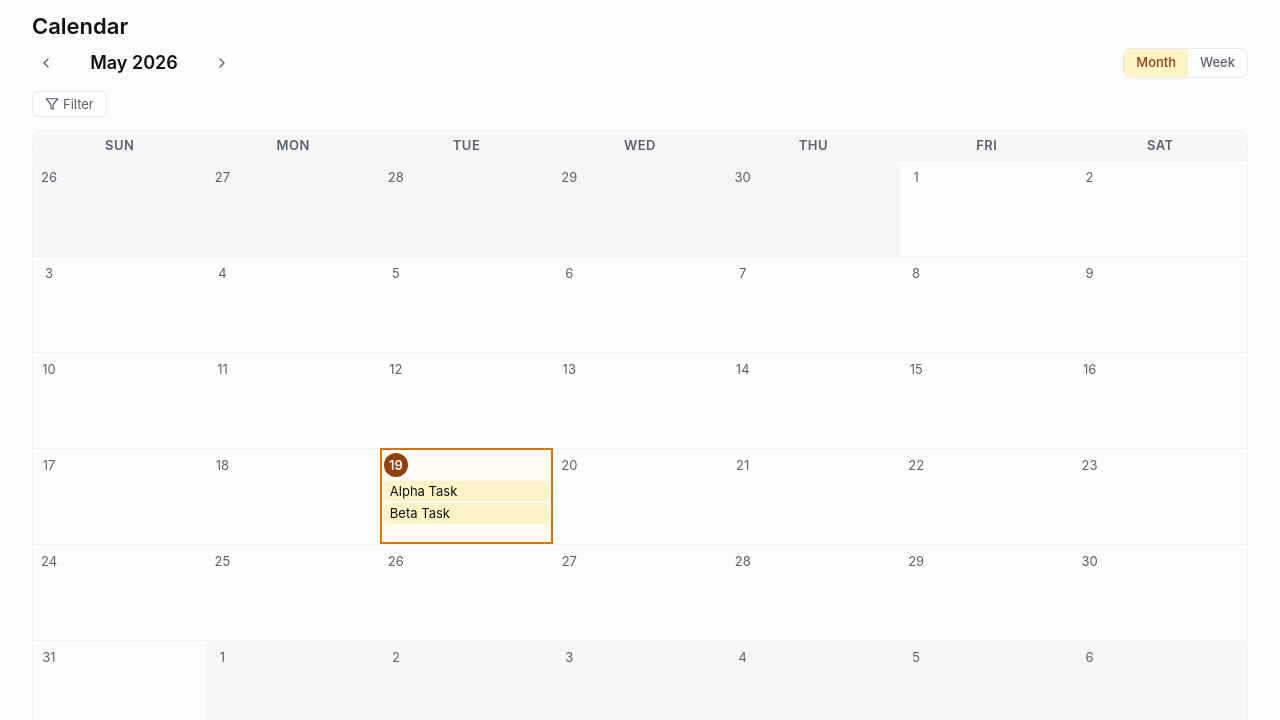
Test: CalendarMonthView — filter chips › "Show completed" toggle adds completed items to the view
The image size is (1280, 720).
// Open filter menu using exact aria-label
Click the button "Filter".
click(69, 104)  # box [32, 90, 107, 116]
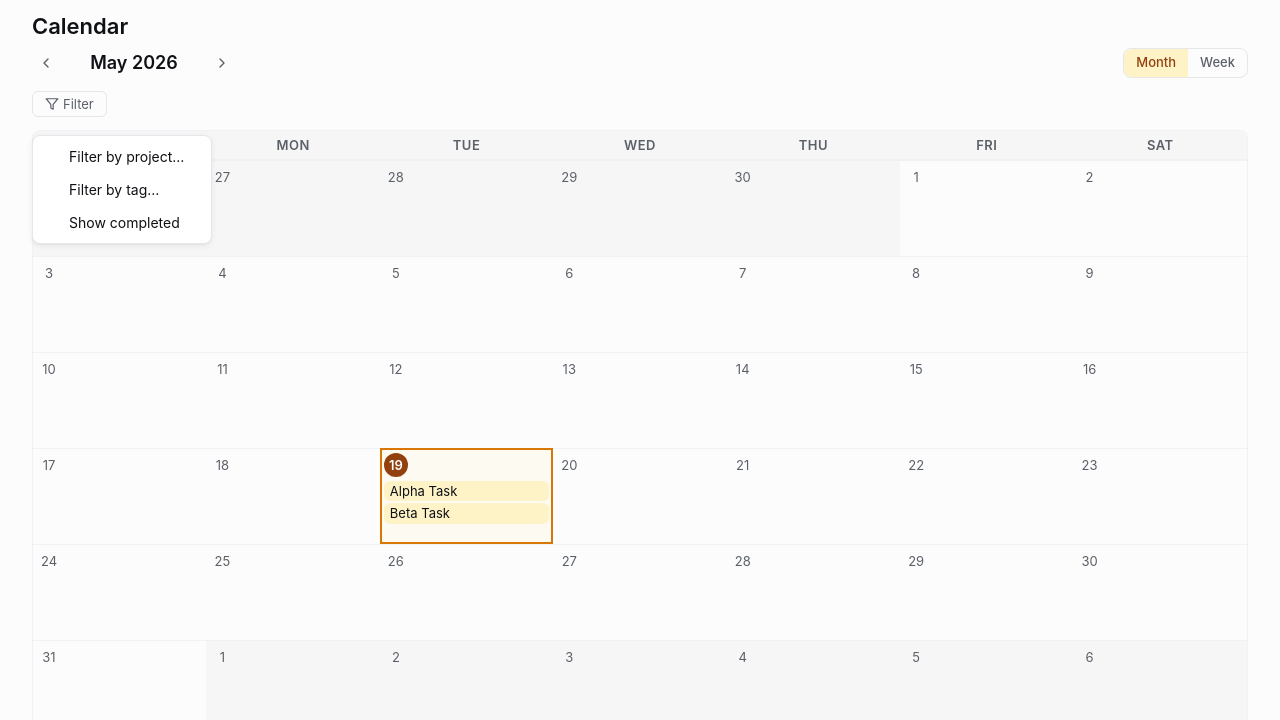
Click the menu item "Show completed".
click(122, 222)  # box [33, 206, 211, 238]
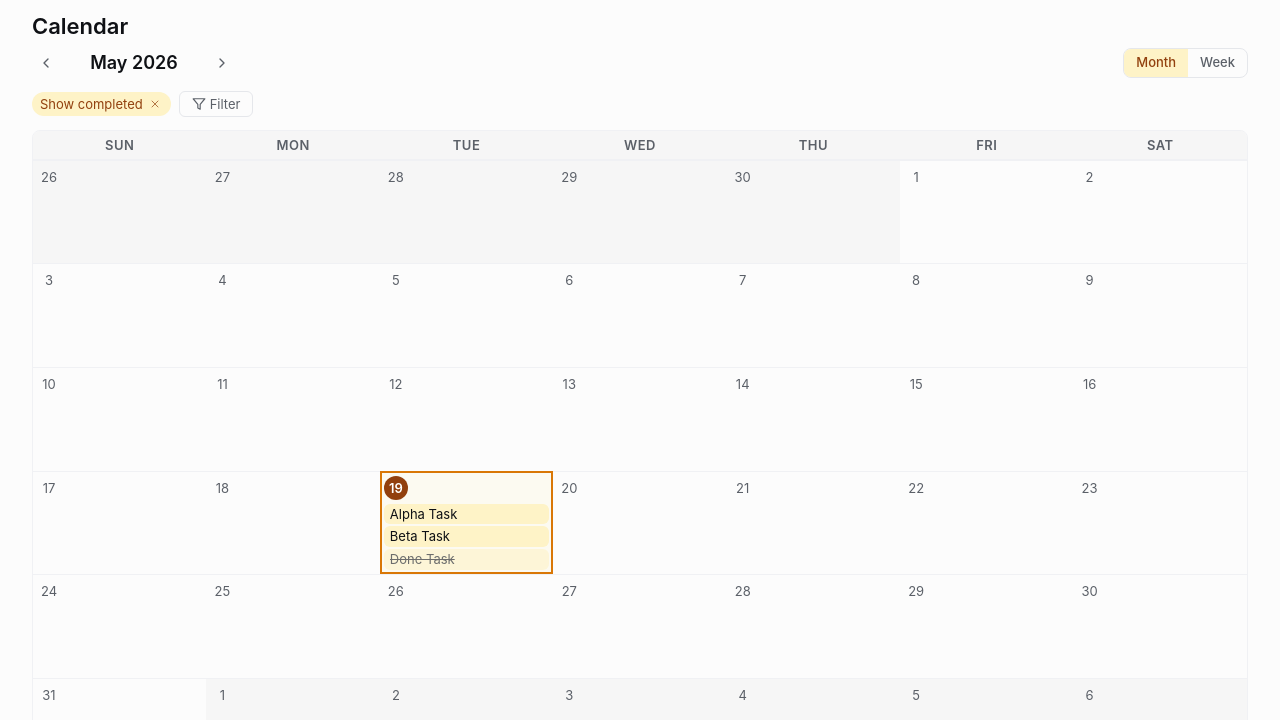
Expected: the text "Done Task" is shown, [390, 551, 455, 567]
